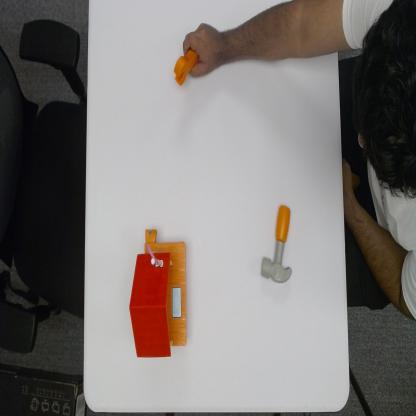Arm: (219, 0, 337, 66)
Hammer: (260, 202, 293, 286)
Hand: (183, 23, 220, 81)
House: (128, 224, 188, 360)
Screwdriver: (172, 49, 200, 87)
